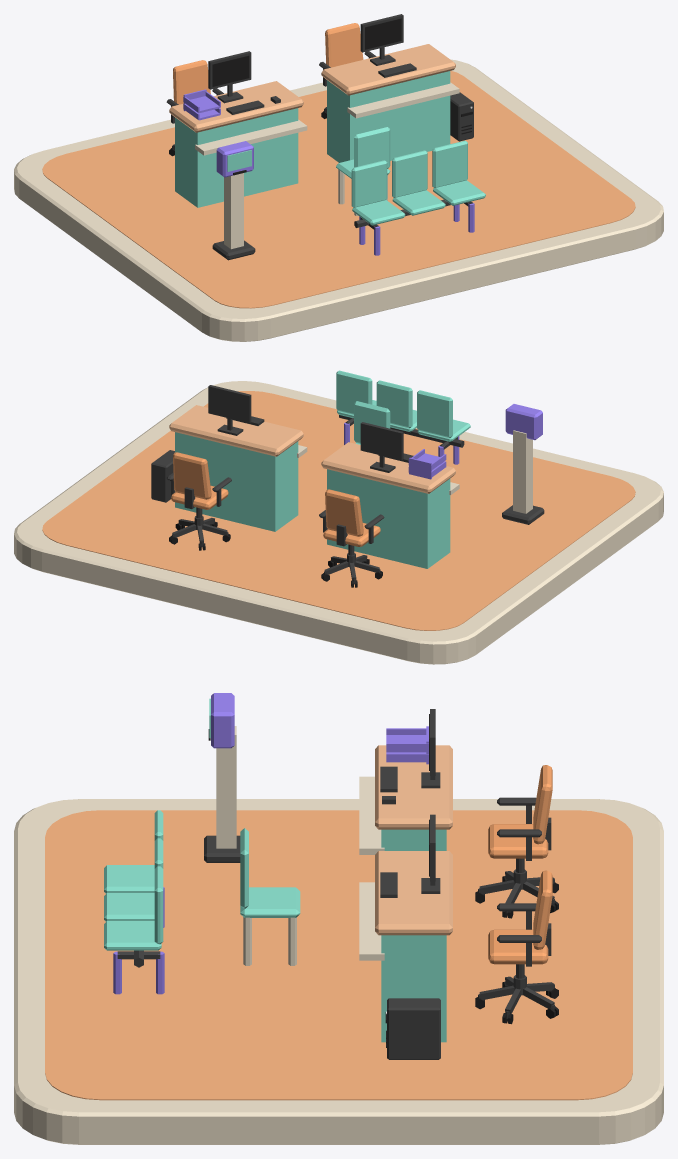
3 renders of one model, top to bottom at view 1: azimuth 30°, elevation 25°; view 2: azimuth 150°, elevation 25°; view 3: azimuth 270°, elevation 25°, orthographic. The views are drawn at different scales.
Visible parts, largest first — view 1: COM-02 Floor Surface, COM-01 Rounded Base Direct, Counter body.001, Counter body, Countertop.001, Countertop, COM-04_Chair_blender_direct.001, Frame.001, Frame, Back, Back.001, Back.002 (+11 smaller); view 2: COM-02 Floor Surface, COM-01 Rounded Base Direct, Counter body.001, Counter body, COM-04_Chair_blender_direct.001, COM-04_Chair_blender_direct, Countertop.001, Countertop, Pedestal, Frame.001, Frame, Back (+6 smaller); view 3: COM-02 Floor Surface, COM-01 Rounded Base Direct, Countertop.001, COM-04_Chair_blender_direct.001, COM-04_Chair_blender_direct, Countertop, Counter body.001, Tower, Pedestal, Seat.003, Seat.002, Visitor shelf.001 (+10 smaller).
Boxes of the visible parts, <box> form: COM-02 Floor Surface: <box>42,71,635,308</box>; COM-01 Rounded Base Direct: <box>14,59,663,341</box>; Counter body.001: <box>327,71,450,162</box>; Counter body: <box>175,108,298,207</box>; Countertop.001: <box>321,44,455,95</box>; Countertop: <box>169,81,303,132</box>; COM-04_Chair_blender_direct.001: <box>319,23,376,118</box>; Frame.001: <box>360,14,403,65</box>; Frame: <box>208,51,251,103</box>; Back: <box>351,160,387,207</box>; Back.001: <box>392,150,427,197</box>; Back.002: <box>432,140,467,187</box>; COM-02 Floor Surface: <box>42,391,635,630</box>; COM-01 Rounded Base Direct: <box>14,381,663,664</box>; Counter body.001: <box>175,432,298,531</box>; Counter body: <box>327,469,450,568</box>; COM-04_Chair_blender_direct.001: <box>166,452,231,550</box>; COM-04_Chair_blender_direct: <box>319,489,384,587</box>; Countertop.001: <box>169,405,303,456</box>; Countertop: <box>321,442,455,493</box>; Pedestal: <box>513,430,532,513</box>; Frame.001: <box>208,385,251,435</box>; Frame: <box>360,422,403,472</box>; Back: <box>417,390,452,437</box>; COM-02 Floor Surface: <box>45,810,632,1100</box>; COM-01 Rounded Base Direct: <box>14,799,663,1144</box>; Countertop.001: <box>375,851,452,935</box>; COM-04_Chair_blender_direct.001: <box>475,870,558,1024</box>; COM-04_Chair_blender_direct: <box>475,765,558,918</box>; Countertop: <box>375,745,452,829</box>; Counter body.001: <box>381,935,446,1042</box>; Tower: <box>387,998,440,1059</box>; Pedestal: <box>216,726,236,848</box>; Seat.003: <box>240,887,300,917</box>; Seat.002: <box>104,921,161,950</box>; Visitor shelf.001: <box>359,882,384,960</box>.
Bounding box in the file's own units: 6 × 1.87 × 5.2.
Materials: 1 (1 with a texture image).
